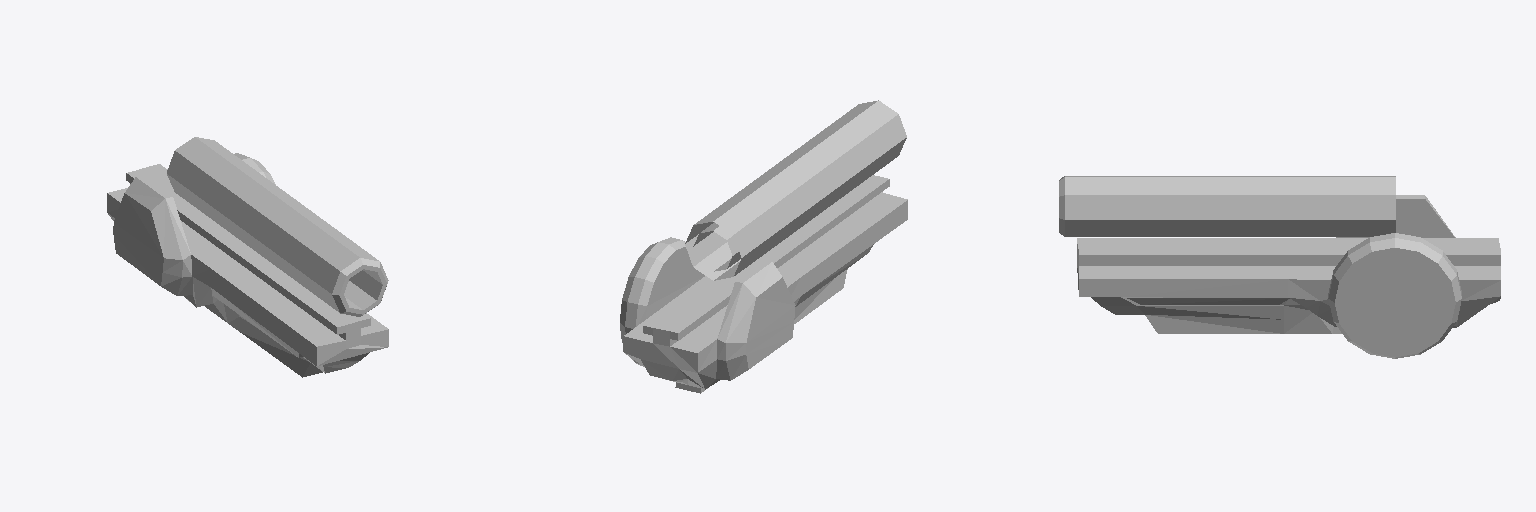
The model's file is MSphere_RReciever.obj.
3 views of the same model, side by side, from view 1: azimuth 30°, elevation 25°; view 2: azimuth 150°, elevation 25°; view 3: azimuth 270°, elevation 25° (orthographic).
Parts seen in each view (by area): view 1: LowPolyRightReciever_Circle.004; view 2: LowPolyRightReciever_Circle.004; view 3: LowPolyRightReciever_Circle.004.
Boxes of the visible parts, box(x1,y1,x2,y2) form: LowPolyRightReciever_Circle.004: box(107, 137, 388, 377); LowPolyRightReciever_Circle.004: box(620, 100, 907, 393); LowPolyRightReciever_Circle.004: box(1059, 176, 1500, 358).
Size of the model in its own units: 0.2067 by 0.2537 by 0.6549.